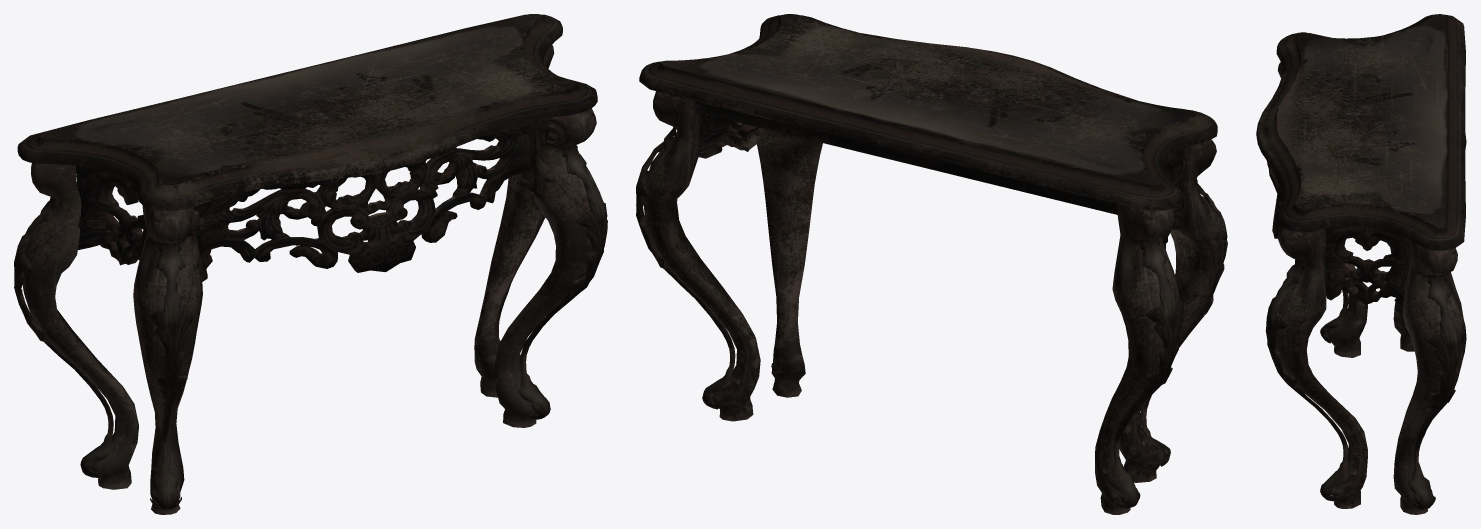
Rendered from ClassicConsole_01.glb.
The picture shows the model from 3 angles, left to right: view 1: azimuth 30°, elevation 25°; view 2: azimuth 150°, elevation 25°; view 3: azimuth 270°, elevation 25°; orthographic projection. The views are drawn at different scales.
Visible parts, largest first — view 1: ClassicConsole_01; view 2: ClassicConsole_01; view 3: ClassicConsole_01.
Boxes of the visible parts, box(x1,y1,x2,y2) form: ClassicConsole_01: box(14, 14, 607, 514); ClassicConsole_01: box(636, 14, 1227, 514); ClassicConsole_01: box(1256, 14, 1466, 514).
Size of the model in its own units: 1.54 by 0.9491 by 0.5893.
Materials: 1 (1 with a texture image).
